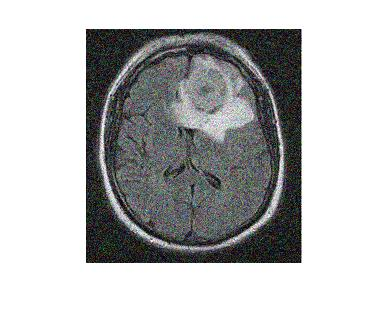Brain_Cancer: (188, 55, 240, 126)
